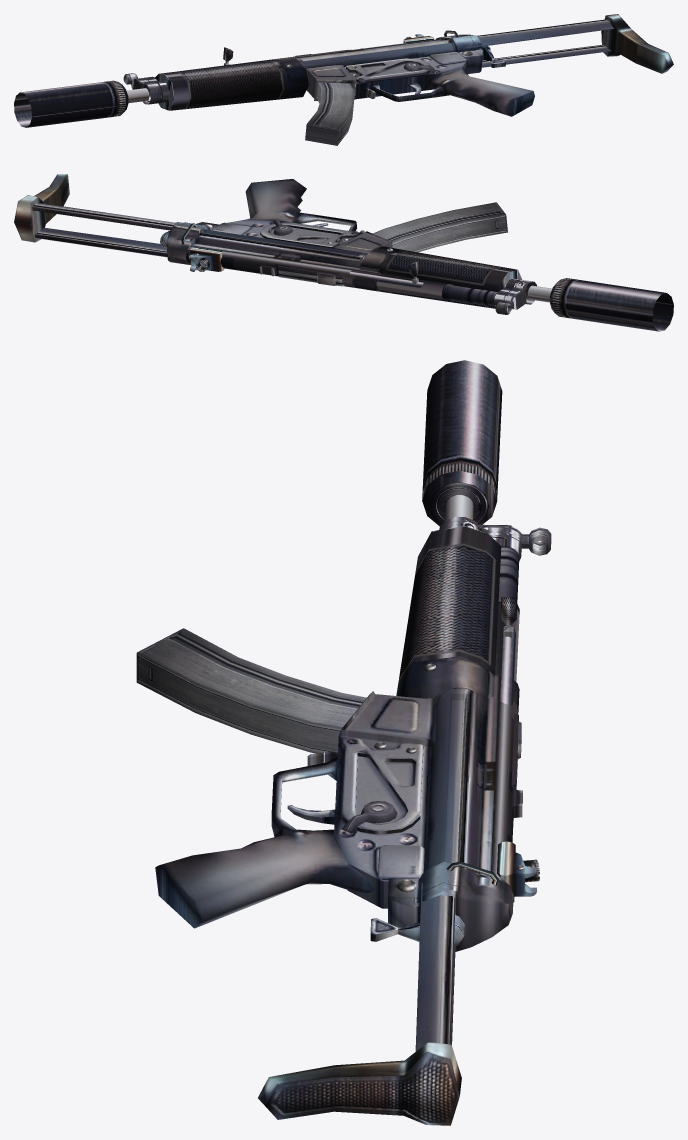
3 renders of one model, top to bottom at view 1: azimuth 30°, elevation 25°; view 2: azimuth 150°, elevation 25°; view 3: azimuth 270°, elevation 25°, orthographic. The views are drawn at different scales.
Visible parts, largest first — view 1: _mp5_1st; view 2: _mp5_1st; view 3: _mp5_1st.
Boxes of the visible parts, x1,y1,x2,y2 form: _mp5_1st: [14, 14, 673, 145]; _mp5_1st: [14, 174, 673, 331]; _mp5_1st: [136, 360, 551, 1125].
Bounding box in the file's own units: 1 × 0.1556 × 0.2988.
1 material, 1 textured.
